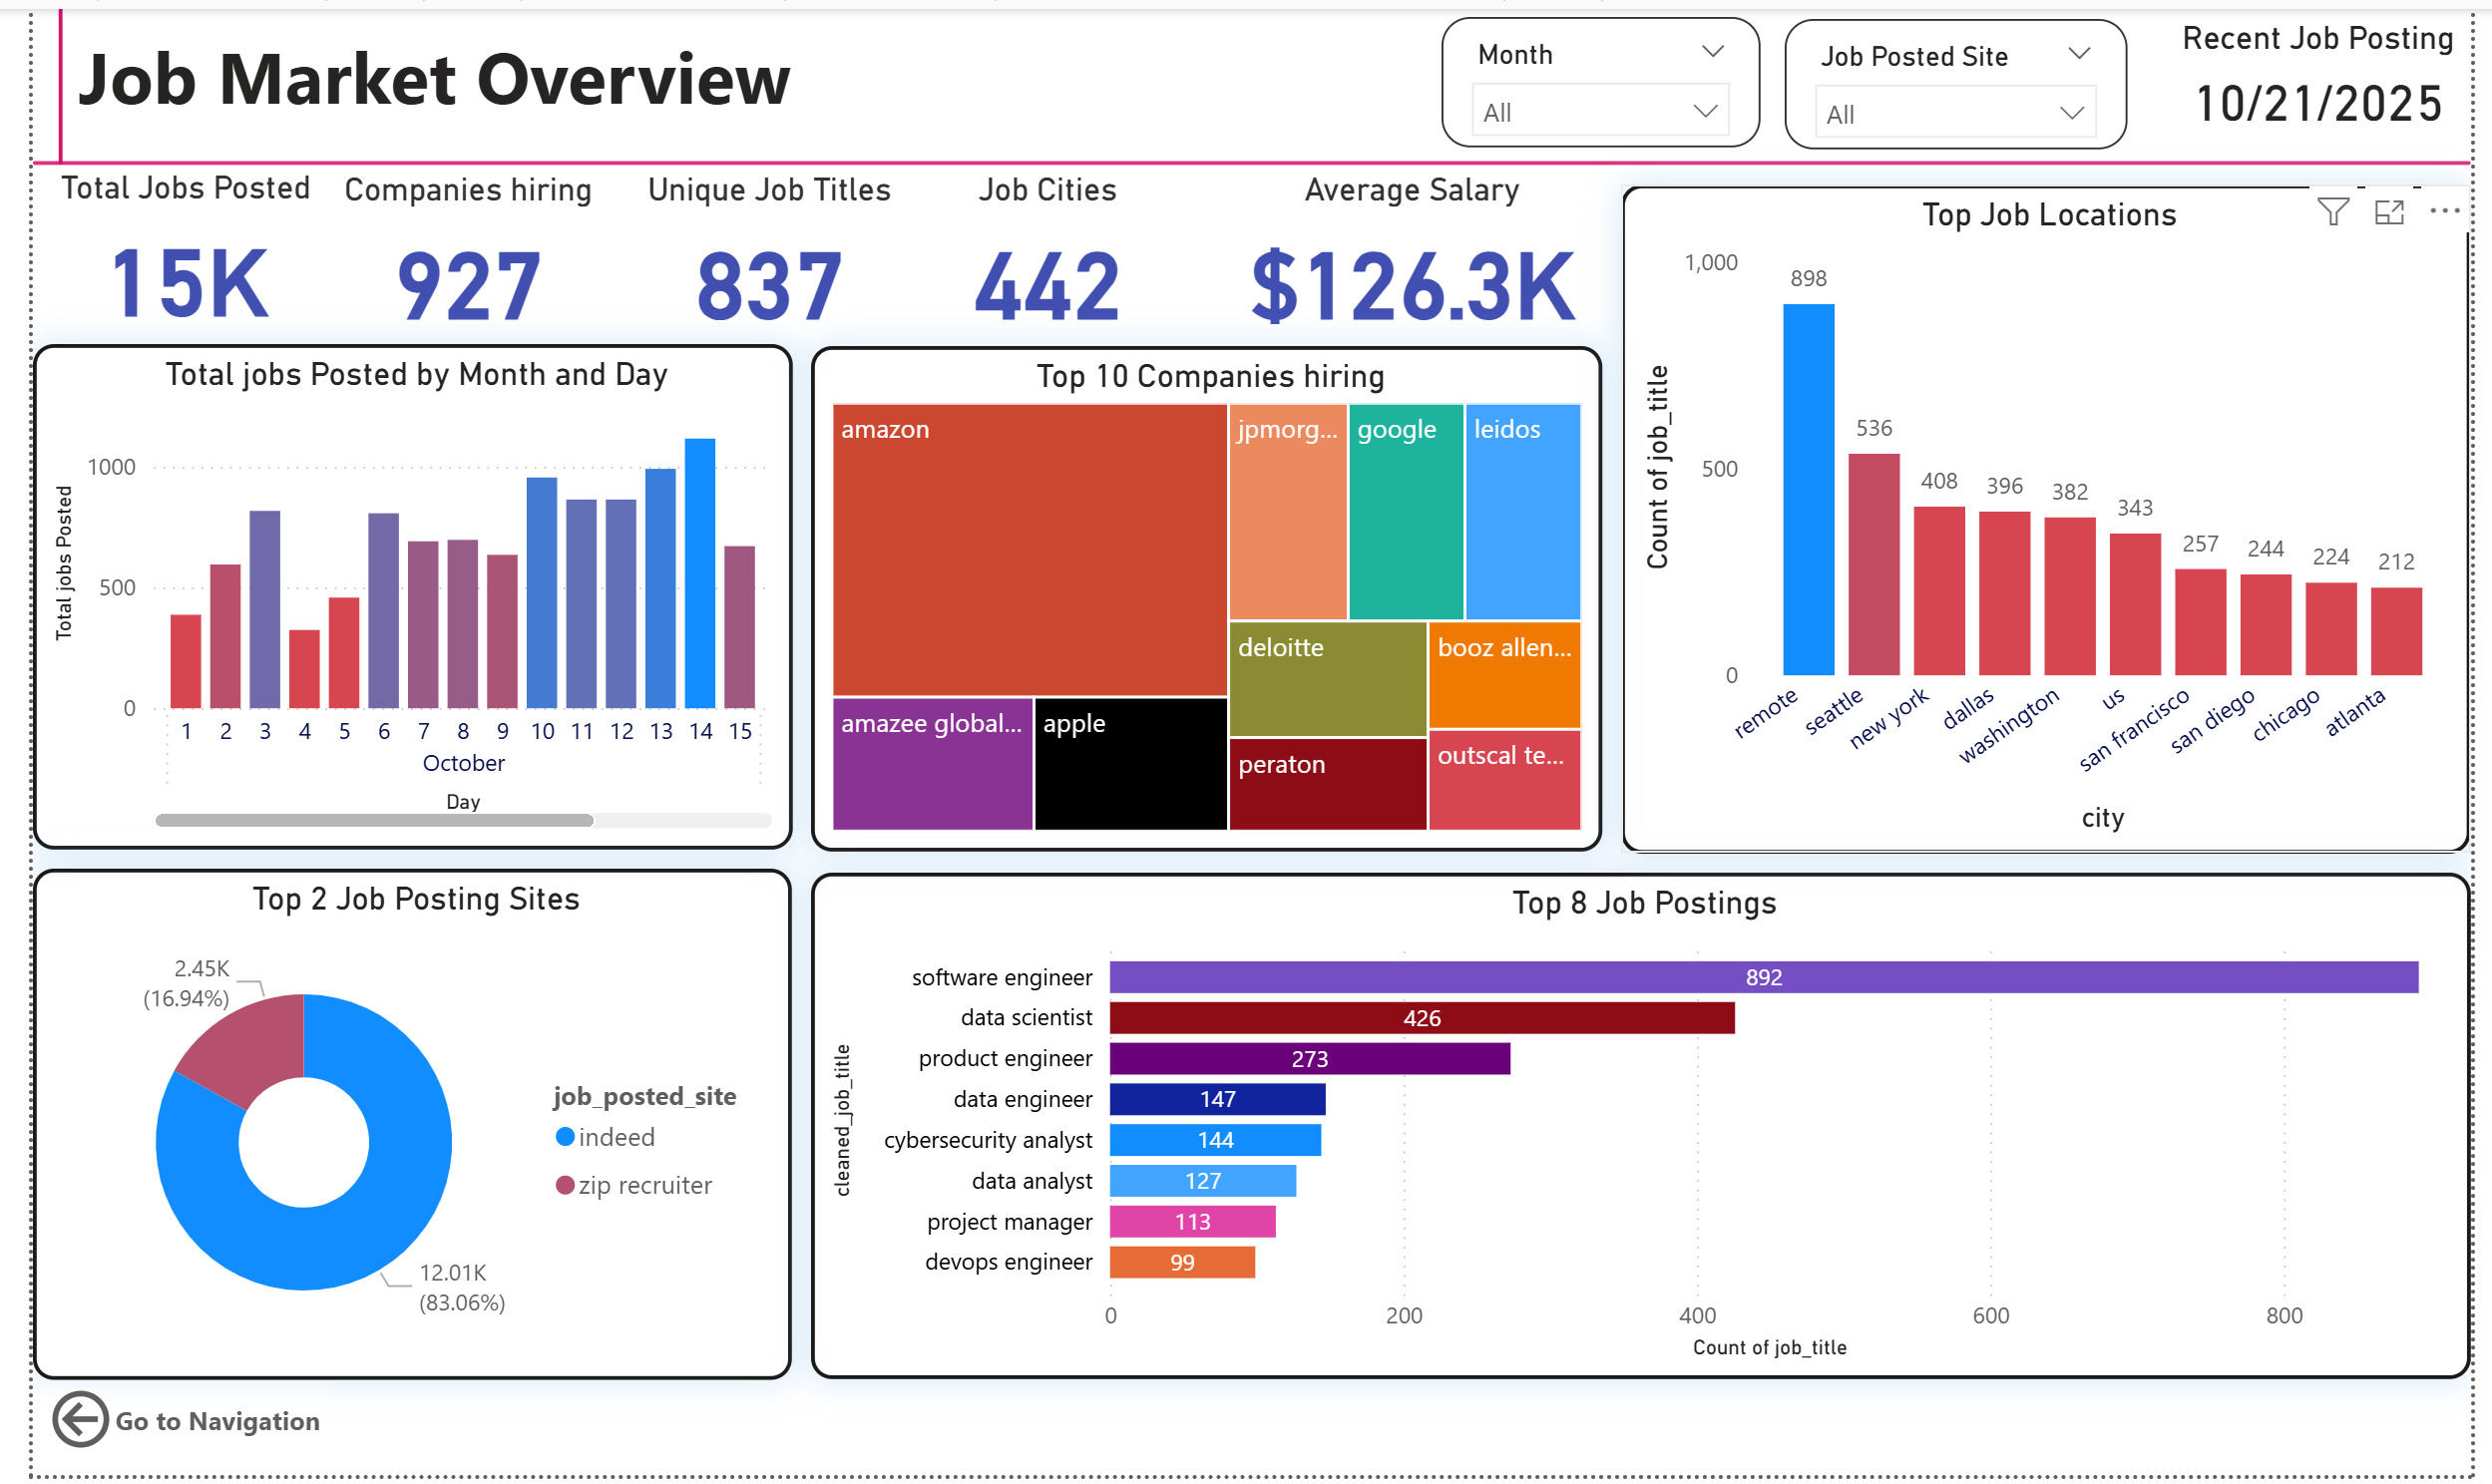

The page's visual inventory and layout, read from the dashboard file:
{"tool":"powerbi","page":{"name":"Overview","canvas":[1280,770],"ordinal":1},"visuals":[{"type":"shape","box":[0,70,1280,21.4],"z":0},{"type":"textbox","box":[18.6,4.7,421.2,62.8],"z":2000},{"type":"shape","box":[0,0,29.1,81.5],"z":3000},{"type":"card","title":"Companies hiring","fields":{"Values":["job_data.Total Companies Hiring"]},"box":[149.3,85.1,159.8,92.5],"z":4000},{"type":"card","title":"Total Jobs Posted","fields":{"Values":["job_data.Total jobs"]},"box":[0,83.9,160.6,92.6],"z":5000},{"type":"card","title":"Unique Job Titles","fields":{"Values":["job_data.unique job titles"]},"box":[309,85.1,155.6,92.5],"z":6000},{"type":"card","title":"Average Salary","fields":{"Values":["job_data.Aaverage Salary"]},"box":[613.8,85.1,220.7,92.5],"z":7000},{"type":"card","title":"Job Cities","fields":{"Values":["Table.Distinct Locations"]},"box":[464.6,85.1,137.7,92.5],"z":8000},{"type":"card","title":"Recent Job Posting","fields":{"Values":["job_data.Recent job date"]},"box":[1120.1,4.9,160.2,66],"z":9000},{"type":"columnChart","fields":{"Y":["job_data.Total jobs Posted"],"Category":["job_data.job_posted_date.Variation.Date Hierarchy.Month","job_data.job_posted_date.Variation.Date Hierarchy.Day"]},"box":[0,176.5,399.1,265.3],"z":10000},{"type":"donutChart","title":"Top 2 Job Posting Sites","fields":{"Category":["job_data.job_posted_site"],"Y":["CountNonNull(job_data.job_title)"]},"box":[0,451.4,398.6,268.6],"z":11000},{"type":"treemap","title":"Top 10 Companies hiring","fields":{"Group":["job_data.company_name"],"Values":["CountNonNull(job_data.company_name)"]},"box":[408.6,177.1,415.7,265.7],"z":12000},{"type":"barChart","title":"Top 8 Job Postings","fields":{"Category":["job_data.cleaned_job_title"],"Y":["CountNonNull(job_data.job_title)"],"Series":["job_data.job_title"]},"box":[408.9,454.1,871.4,265.9],"z":13000},{"type":"columnChart","title":"Top Job Locations","fields":{"Category":["job_data.city"],"Y":["CountNonNull(job_data.job_title)"]},"box":[834.3,91.9,446,351.3],"z":14000},{"type":"slicer","fields":{"Values":["job_data.job_posted_site"]},"box":[919.6,4.9,179.8,68.5],"z":15000},{"type":"slicer","fields":{"Values":["job_data.job_posted_date.Variation.Date Hierarchy.Month","job_data.job_posted_date.Variation.Date Hierarchy.Day"]},"box":[740.1,4.7,167.6,68.7],"z":16000},{"type":"actionButton","box":[5.5,721,149.7,39.8],"z":17000}]}

Visuals, with their boxes in screenshot pixels (x1, y1, x2, y2), scaled from the page's 1280x770 canvas onto the 2492x1484 screenshot:
shape: bbox(0, 135, 2491, 177)
textbox: bbox(36, 9, 856, 130)
shape: bbox(0, 0, 57, 157)
"Companies hiring" card: bbox(290, 164, 602, 342)
"Total Jobs Posted" card: bbox(0, 162, 312, 340)
"Unique Job Titles" card: bbox(602, 164, 905, 342)
"Average Salary" card: bbox(1195, 164, 1625, 342)
"Job Cities" card: bbox(905, 164, 1172, 342)
"Recent Job Posting" card: bbox(2181, 9, 2491, 137)
columnChart - job_data.Total jobs Posted x job_data.job_posted_date.Variation.Date Hierarchy.Month: bbox(0, 340, 777, 852)
"Top 2 Job Posting Sites" donutChart: bbox(0, 870, 776, 1387)
"Top 10 Companies hiring" treemap: bbox(795, 341, 1605, 854)
"Top 8 Job Postings" barChart: bbox(796, 876, 2491, 1387)
"Top Job Locations" columnChart: bbox(1624, 178, 2491, 854)
slicer - job_data.job_posted_site: bbox(1791, 9, 2141, 142)
slicer - job_data.job_posted_date.Variation.Date Hierarchy.Month x job_data.job_posted_date.Variation.Date Hierarchy.Day: bbox(1441, 9, 1767, 142)
actionButton: bbox(11, 1389, 302, 1466)
